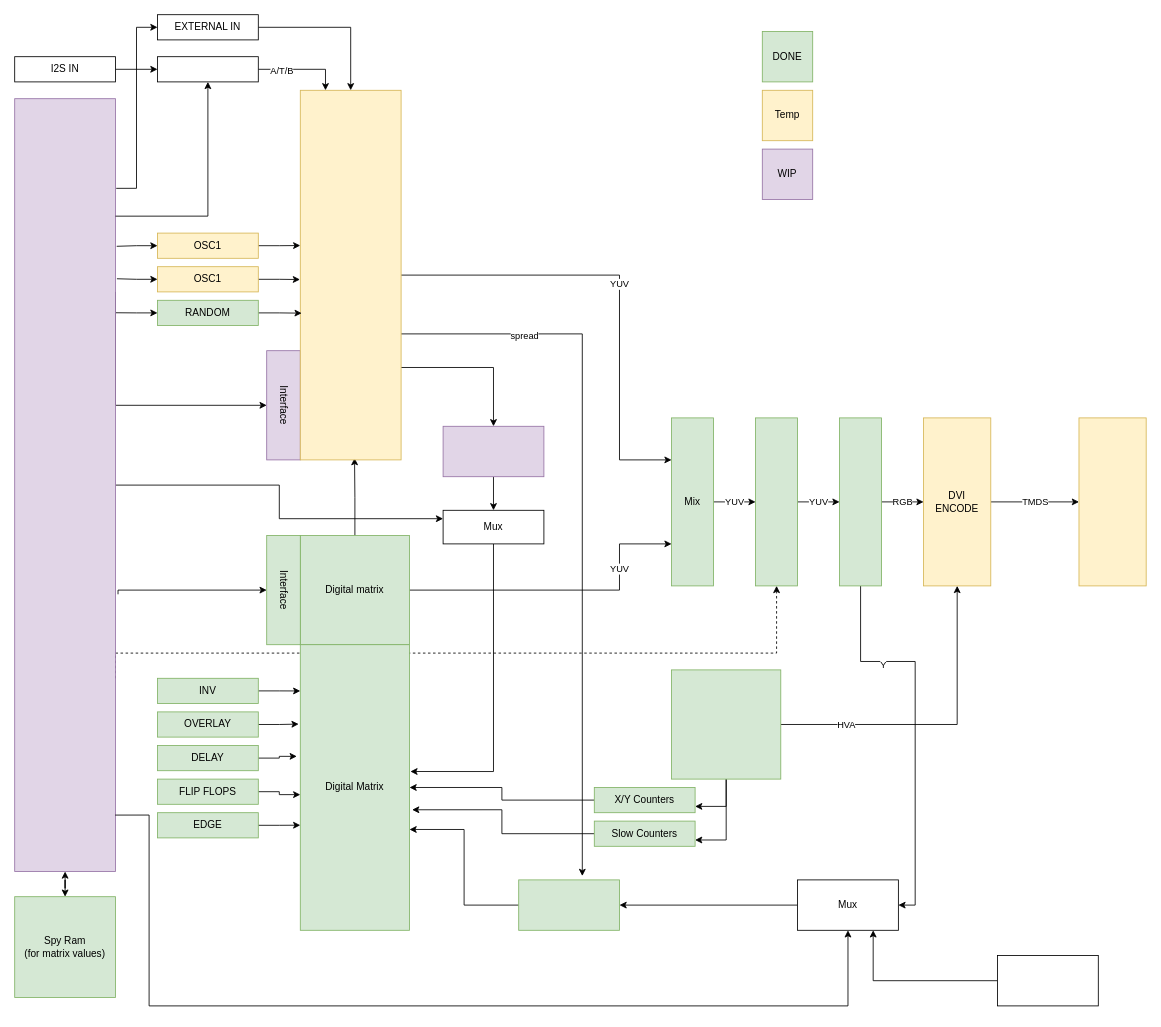
This 1161x1027 diagram has some shape labels left out. Each missing label, with the centre of its shape:
"Analoge Matrix" belongs at point 350,274.
"AUDIO IN" belongs at point 207,69.
"Camera" belongs at point 1047,980.
"Register File" belongs at point 65,485.
"Shape Gen 1/2" belongs at point 493,451.
"Video In Comp" belongs at point 569,904.
"VIDEO OUT" belongs at point 1112,501.
"Video Timing Generator" belongs at point 726,724.
"YUV Levels" belongs at point 776,501.
"YUV TO RGB" belongs at point 860,501.
